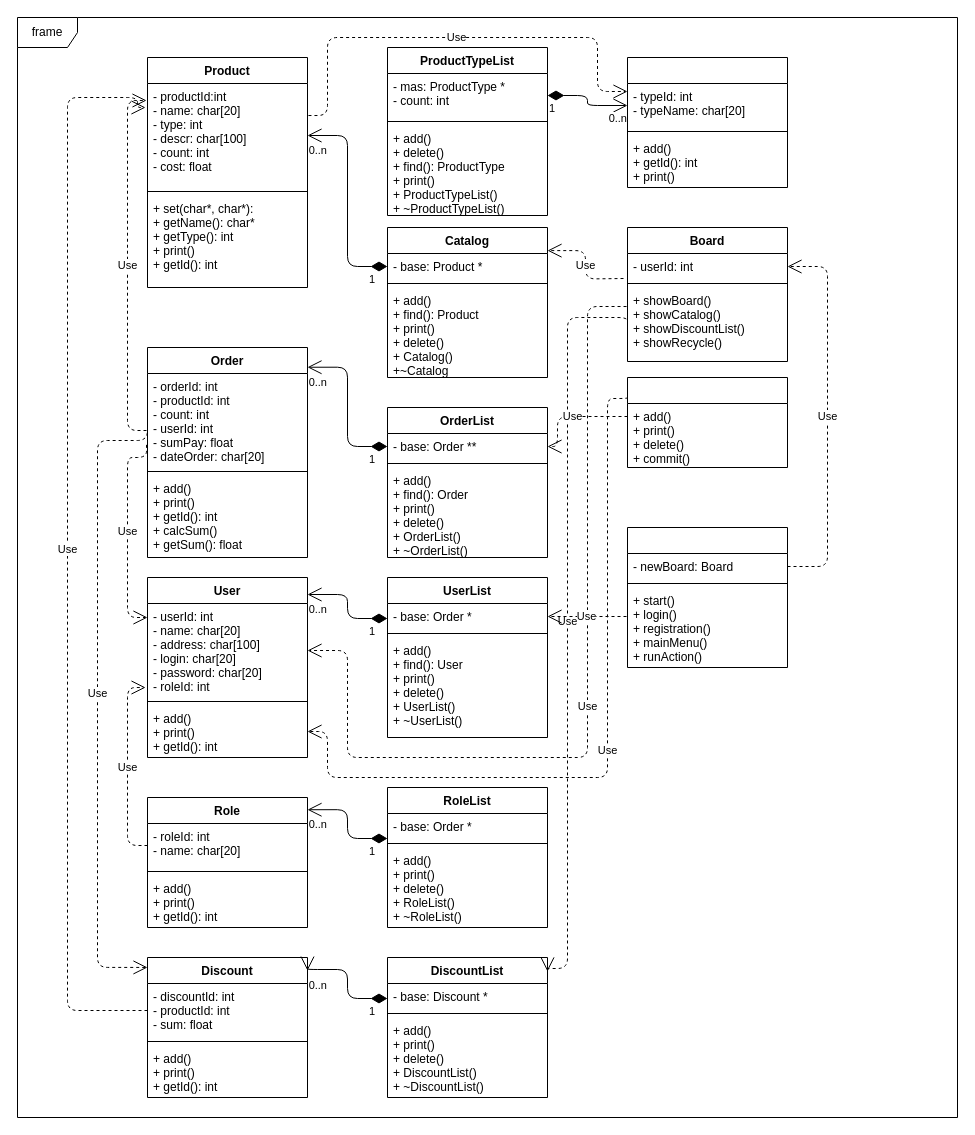
This 975x1135 diagram has some shape labels left out. Here are the shapes that lost their labels. From the top down, the box of each, then its label:
(626, 56, 788, 188): ProductType
(626, 376, 788, 468): Recycle
(626, 526, 788, 668): Application
